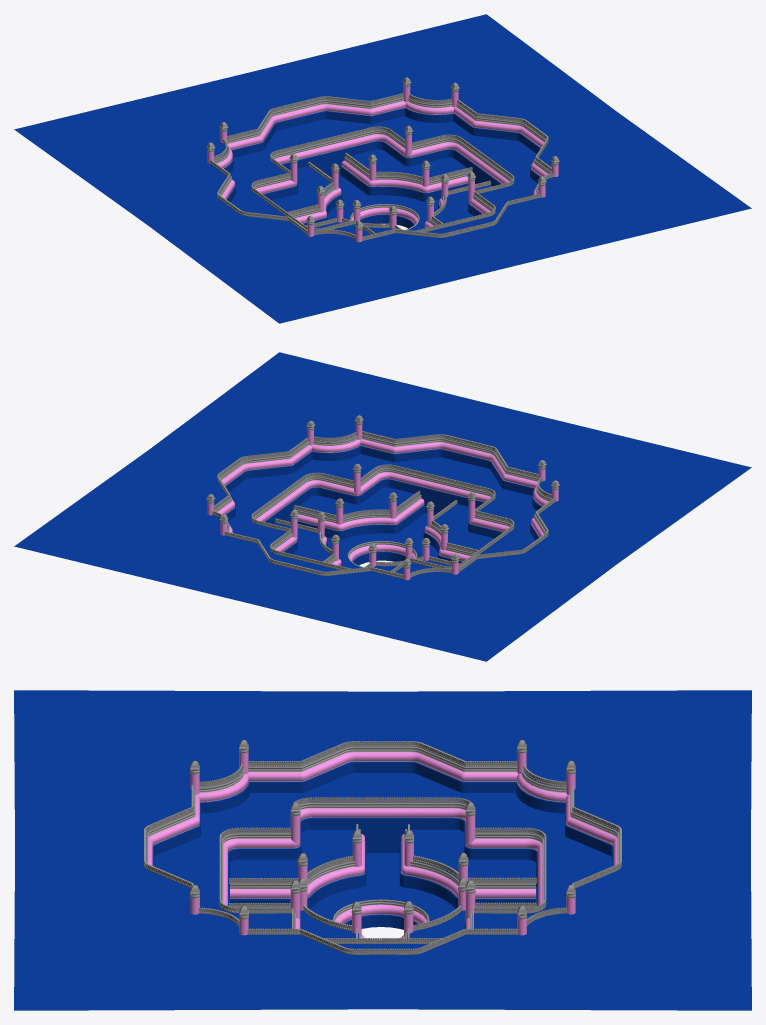
The model's file is sanctuary.fbx.
3 renders of one model, top to bottom at view 1: azimuth 30°, elevation 25°; view 2: azimuth 150°, elevation 25°; view 3: azimuth 270°, elevation 25°, orthographic. The views are drawn at different scales.
Parts seen in each view (by area): view 1: sanctuary002; view 2: sanctuary002; view 3: sanctuary002.
Boxes of the visible parts, x1=… form: sanctuary002: x1=14, y1=14, x2=751, y2=323; sanctuary002: x1=14, y1=352, x2=751, y2=661; sanctuary002: x1=14, y1=690, x2=751, y2=1010.
Bounding box in the file's own units: 71.24 × 12.47 × 69.31.
